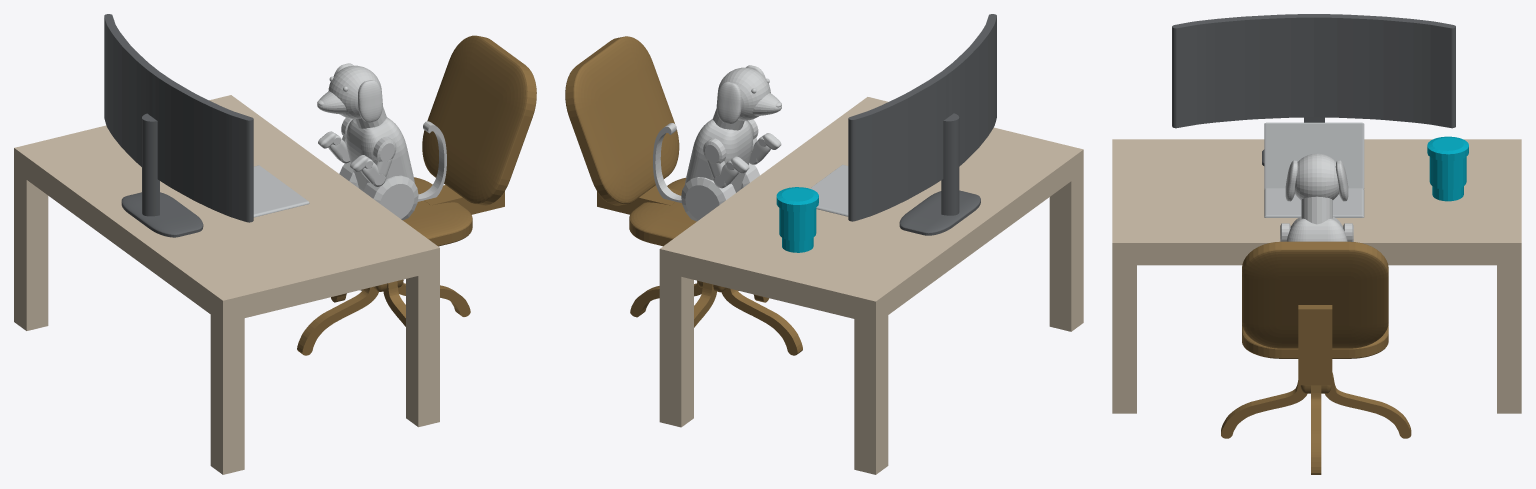
Rendered from Mascot_Kasa.glb.
3 renders of one model, left to right at view 1: azimuth 30°, elevation 25°; view 2: azimuth 150°, elevation 25°; view 3: azimuth 270°, elevation 25°, orthographic. The views are drawn at different scales.
Parts seen in each view (by area): view 1: Mesh_Mesh_head_geo.001_lambert2SG.001; view 2: Mesh_Mesh_head_geo.001_lambert2SG.001; view 3: Mesh_Mesh_head_geo.001_lambert2SG.001.
Part boxes in pixels (x1,y1,x2,y2): Mesh_Mesh_head_geo.001_lambert2SG.001: [14, 14, 536, 474]; Mesh_Mesh_head_geo.001_lambert2SG.001: [565, 14, 1083, 474]; Mesh_Mesh_head_geo.001_lambert2SG.001: [1112, 14, 1521, 474].
Size of the model in its own units: 42 by 32.75 by 39.
